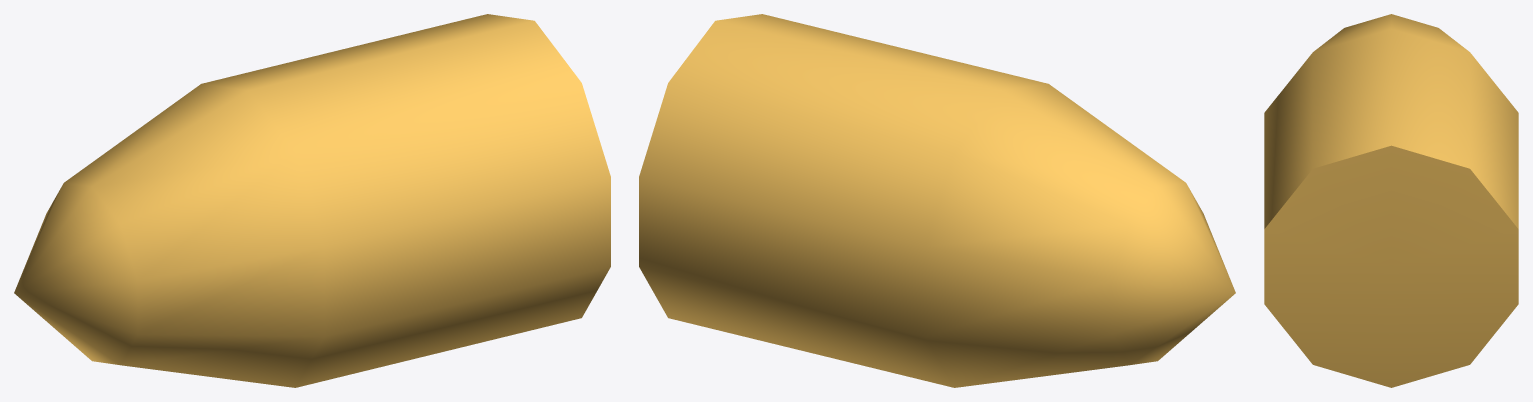
File: FlareGun.fbx
3 renders of one model, left to right at view 1: azimuth 30°, elevation 25°; view 2: azimuth 150°, elevation 25°; view 3: azimuth 270°, elevation 25°, orthographic. The views are drawn at different scales.
Visible parts, largest first — view 1: flare; view 2: flare; view 3: flare.
Part boxes in pixels (x1=…): flare: x1=14, y1=14, x2=610, y2=387; flare: x1=639, y1=14, x2=1235, y2=387; flare: x1=1264, y1=14, x2=1518, y2=387.
Size of the model in its own units: 0.3 by 0.16 by 0.1522.
